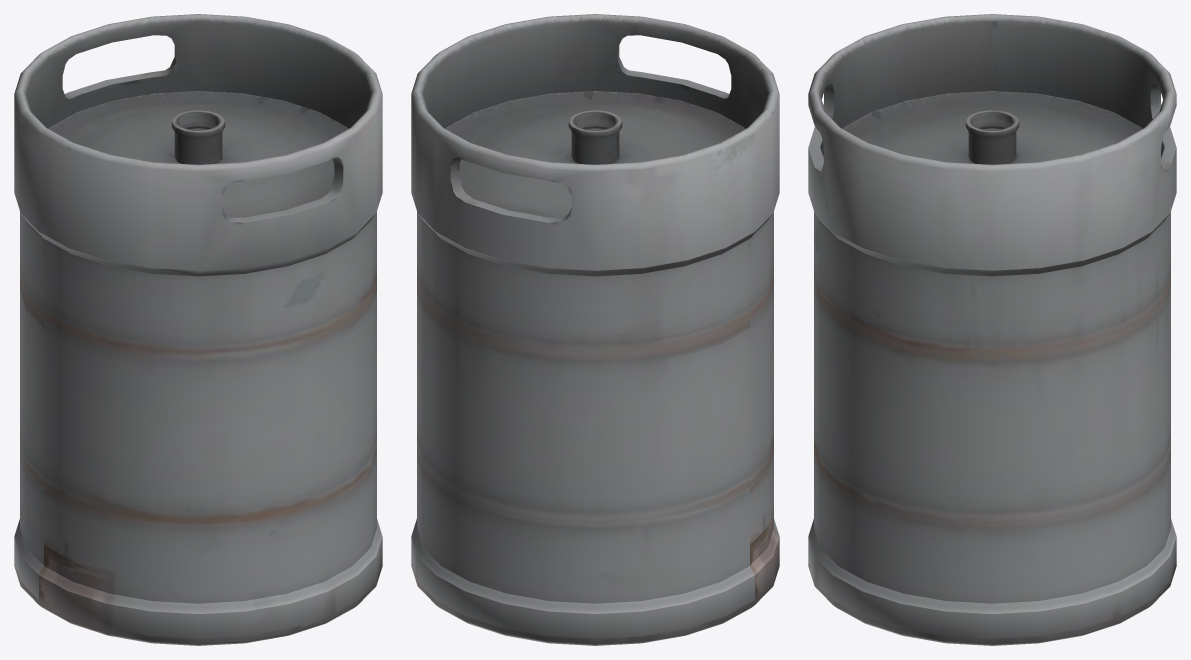
The picture shows the model from 3 angles, left to right: view 1: azimuth 30°, elevation 25°; view 2: azimuth 150°, elevation 25°; view 3: azimuth 270°, elevation 25°; orthographic projection.
Parts seen in each view (by area): view 1: body0_model0_lod0_mesh0; view 2: body0_model0_lod0_mesh0; view 3: body0_model0_lod0_mesh0.
Part boxes in pixels (<box>): body0_model0_lod0_mesh0: <box>14,14,382,645</box>; body0_model0_lod0_mesh0: <box>411,14,779,645</box>; body0_model0_lod0_mesh0: <box>808,14,1176,645</box>.
Size of the model in its own units: 77.91 by 112 by 77.91.
Materials: 1 (1 with a texture image).
